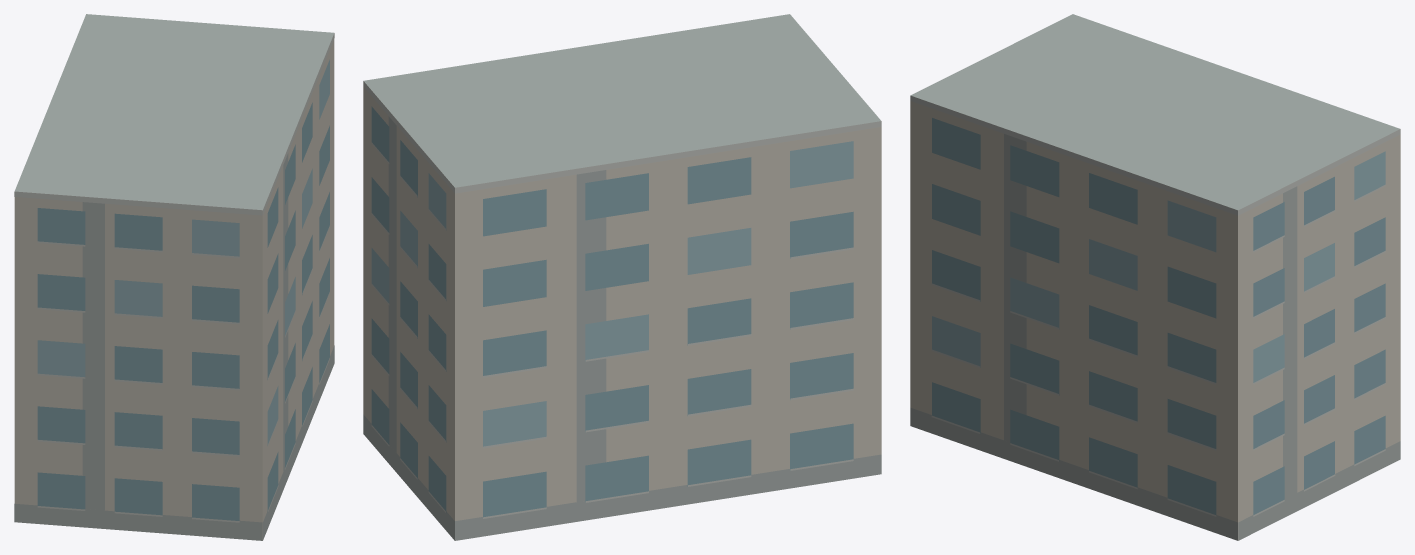
File: survey-upis-32768125.glb
3 views of the same model, side by side, from view 1: azimuth 30°, elevation 25°; view 2: azimuth 150°, elevation 25°; view 3: azimuth 270°, elevation 25° (orthographic). The views are drawn at different scales.
Visible parts, largest first — view 1: survey-upis-32768125.tmp; view 2: survey-upis-32768125.tmp; view 3: survey-upis-32768125.tmp.
Boxes of the visible parts, bbox=[...] form: survey-upis-32768125.tmp: bbox=[14, 14, 334, 540]; survey-upis-32768125.tmp: bbox=[363, 14, 881, 540]; survey-upis-32768125.tmp: bbox=[910, 14, 1400, 540].
Size of the model in its own units: 18.99 by 14.9 by 20.03.
